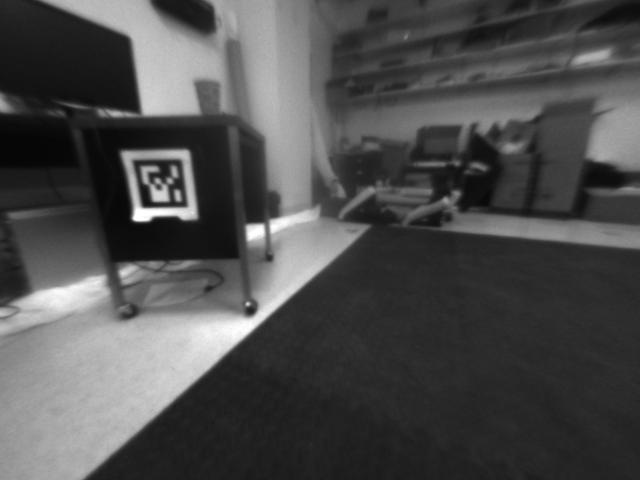coffee_cup: (190, 77, 223, 115)
